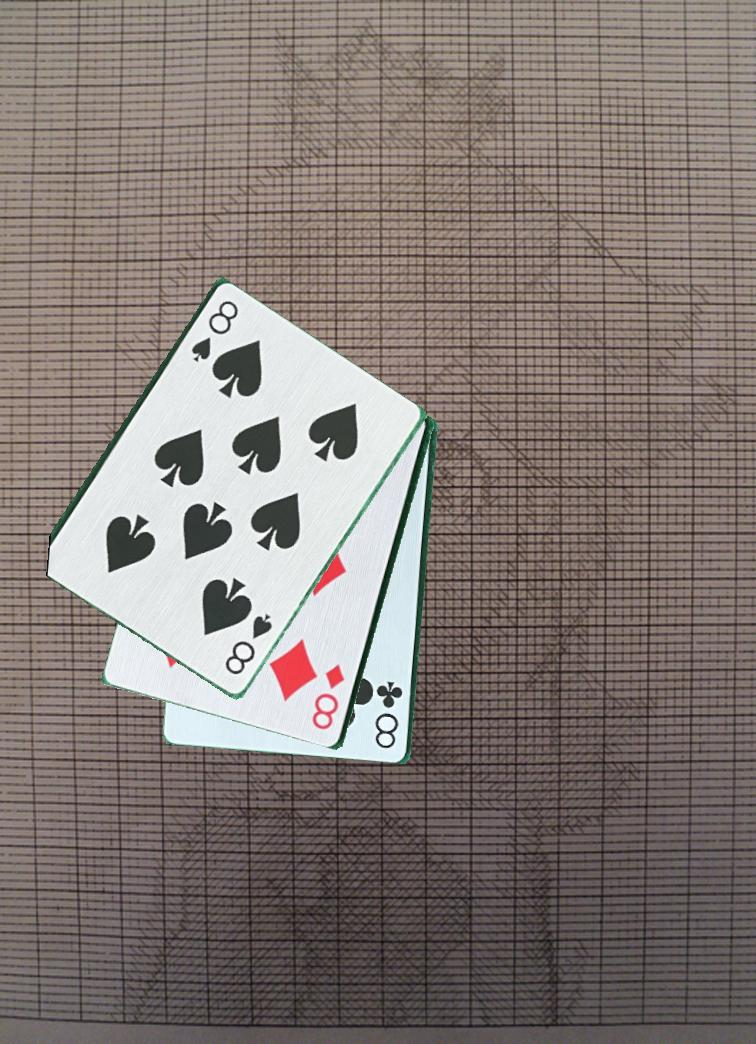8c: (374, 678, 407, 752)
8d: (310, 661, 348, 741)
8s: (212, 610, 276, 680), (187, 297, 242, 368)
